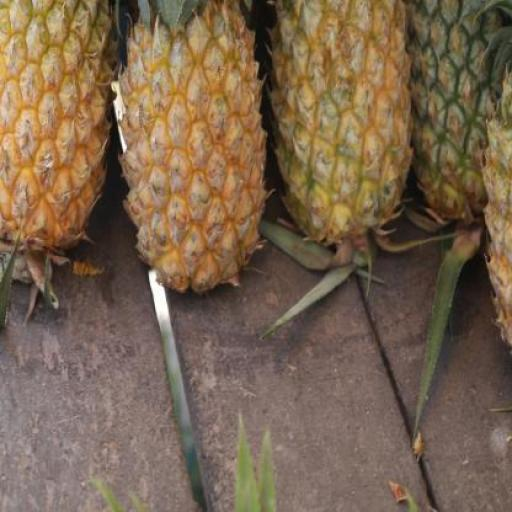------------------------------: (274, 0, 415, 236)
Pineapple - v8 v1: (128, 0, 274, 294), (0, 0, 124, 261)
